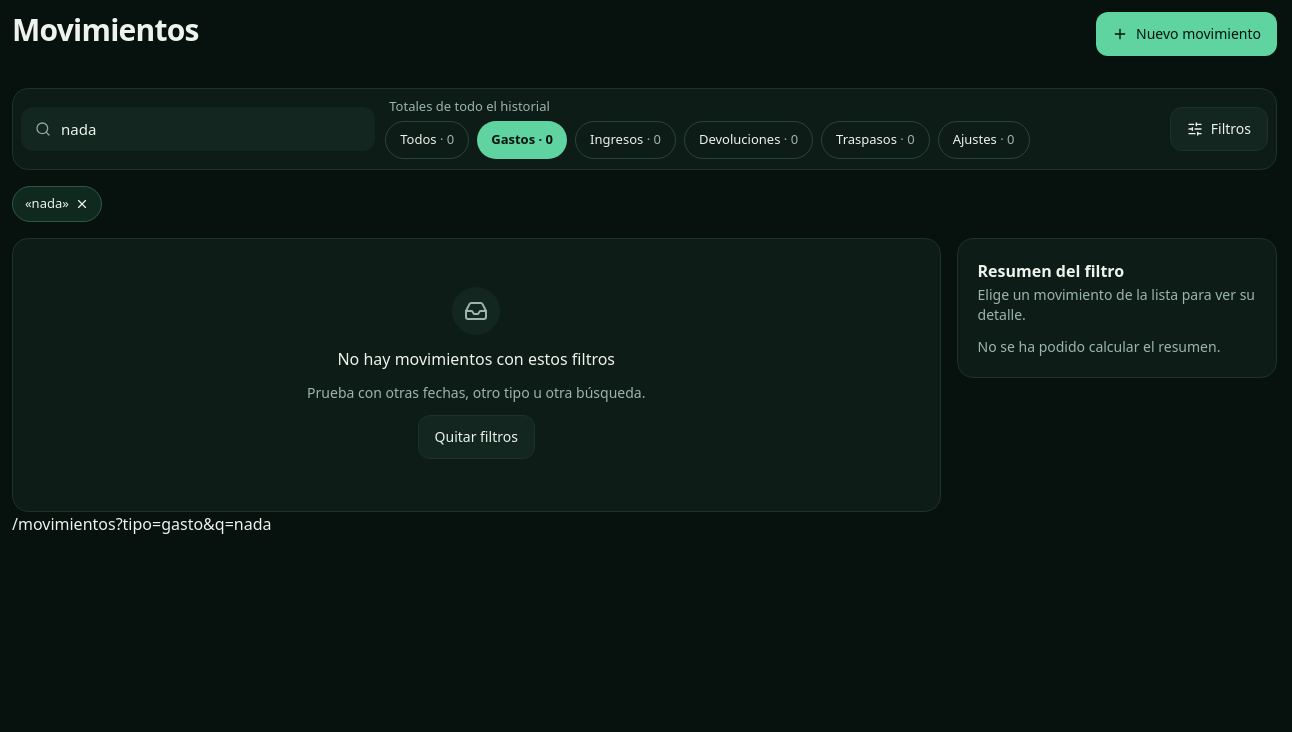
Test: Lista de movimientos › sin resultados con filtros ofrece quitarlos
The width and height of the screenshot is (1292, 732).
Click the button "Quitar filtros" at (476, 436), box [418,414,535,458]
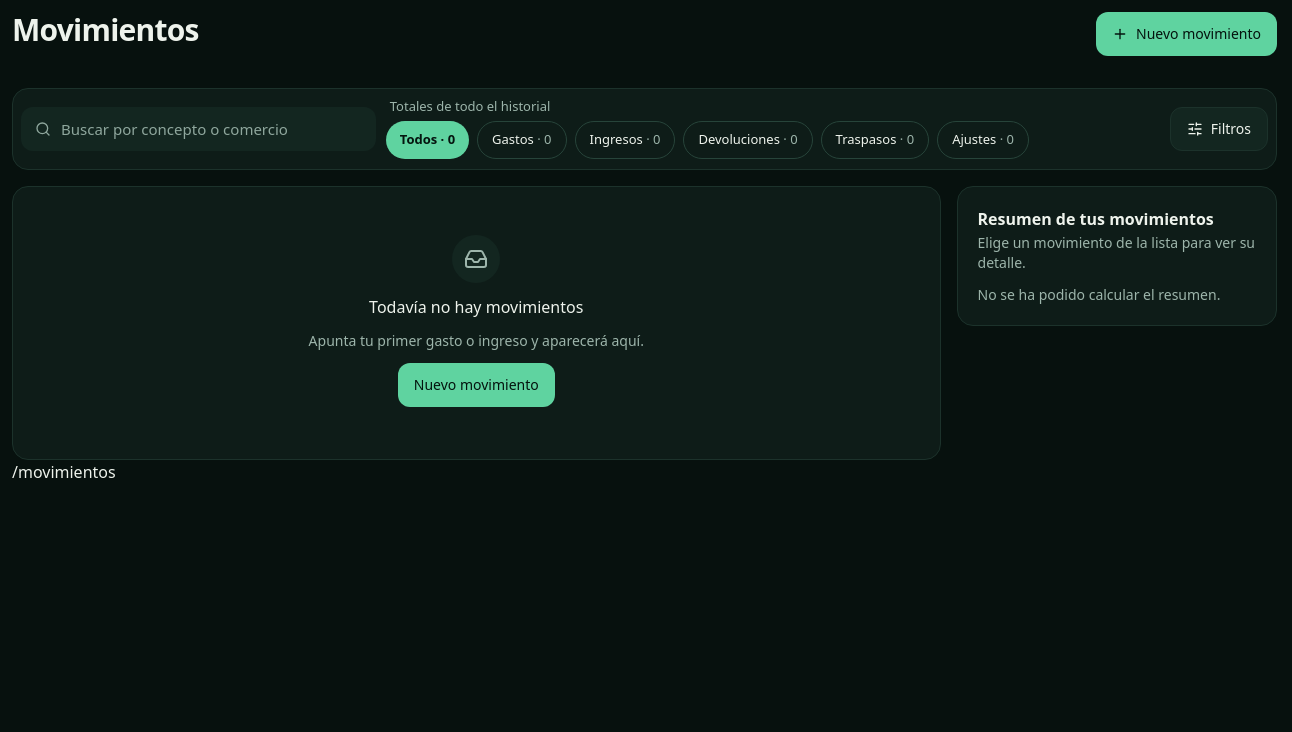
Expected: the text with test id "ubicacion" reads "/movimientos", [12,460,116,482]
